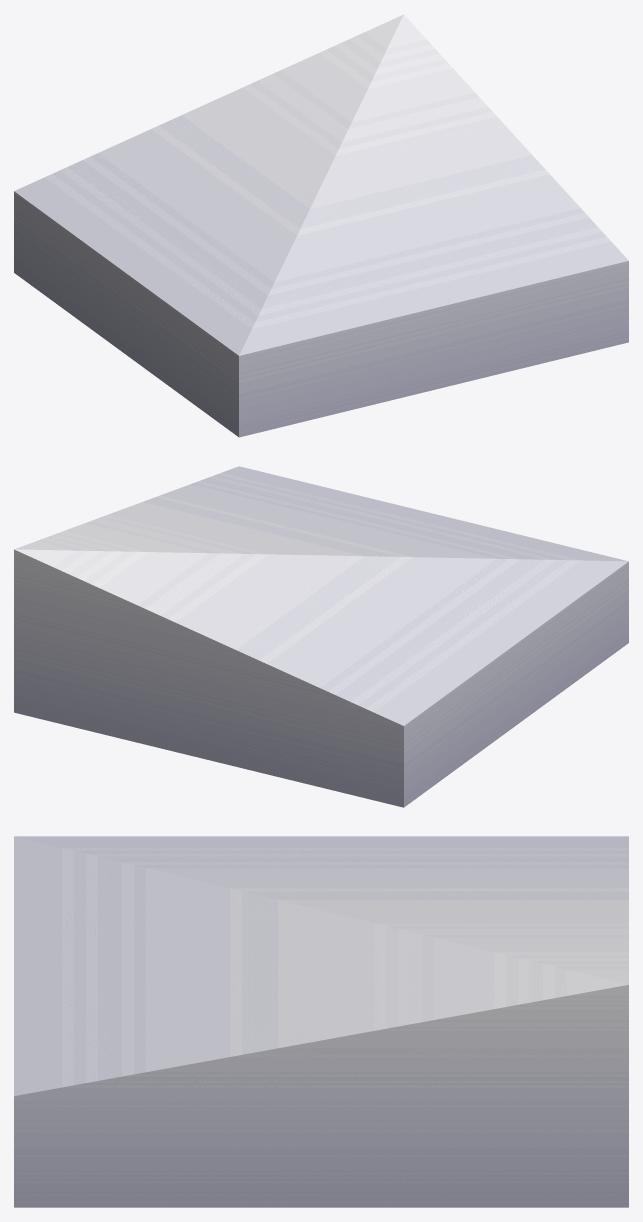
Rendered from snow-tile-corner-outer.glb.
The picture shows the model from 3 angles, top to bottom: view 1: azimuth 30°, elevation 25°; view 2: azimuth 150°, elevation 25°; view 3: azimuth 270°, elevation 25°; orthographic projection. The views are drawn at different scales.
Visible parts, largest first — view 1: snow-tile-corner-outer; view 2: snow-tile-corner-outer; view 3: snow-tile-corner-outer.
Boxes of the visible parts, x1,y1,x2,y2 form: snow-tile-corner-outer: (14,14,628,437); snow-tile-corner-outer: (14,466,628,807); snow-tile-corner-outer: (14,836,628,1207).
Size of the model in its own units: 1 by 0.4 by 1.
Materials: 1 (1 with a texture image).
